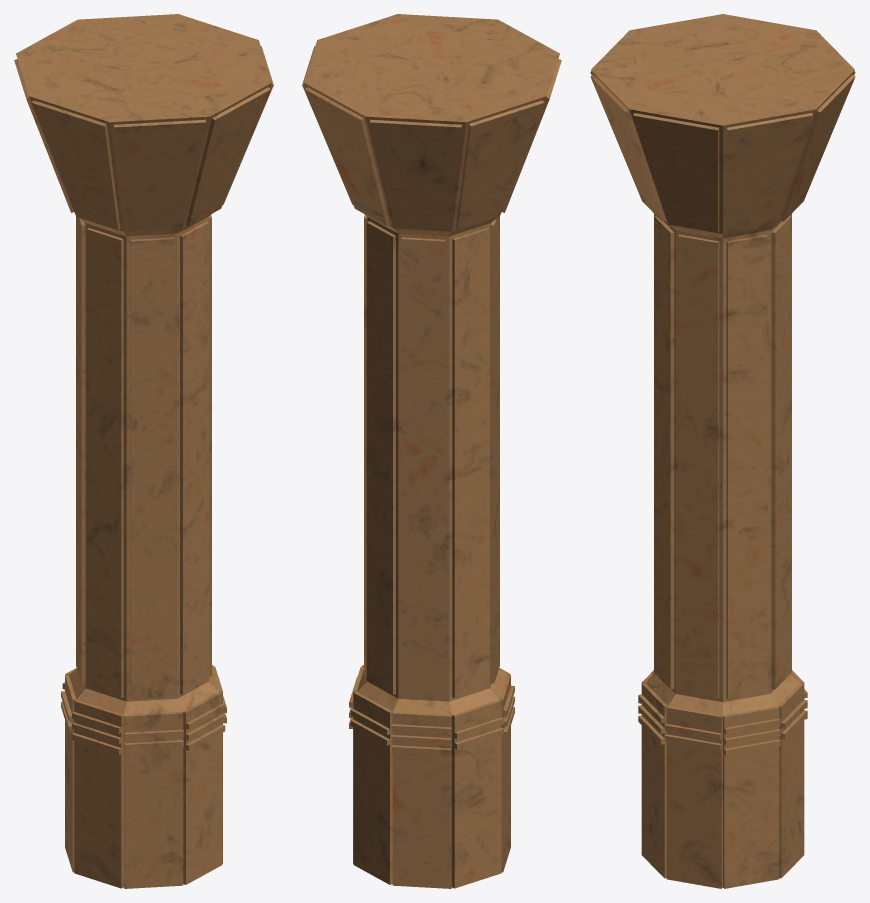
File: Pillar_Wood.glb
The picture shows the model from 3 angles, left to right: view 1: azimuth 30°, elevation 25°; view 2: azimuth 150°, elevation 25°; view 3: azimuth 270°, elevation 25°; orthographic projection.
Parts seen in each view (by area): view 1: body; view 2: body; view 3: body.
Part boxes in pixels (x1,y1,x2,y2): body: (14,14,273,888); body: (302,14,561,888); body: (590,14,855,888).
Bounding box in the file's own units: 3.42 × 11.16 × 3.42.
Materials: 1 (1 with a texture image).
